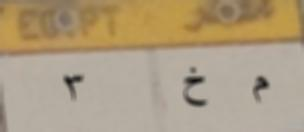3: (63, 68, 87, 105)
khaa: (179, 65, 210, 113)
meem: (248, 73, 271, 107)
